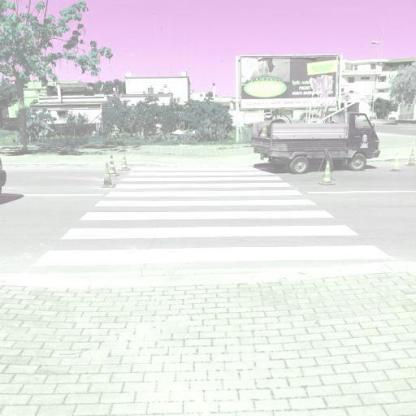crosswalk: (30, 222, 397, 267), (81, 189, 320, 210), (127, 165, 278, 176)
